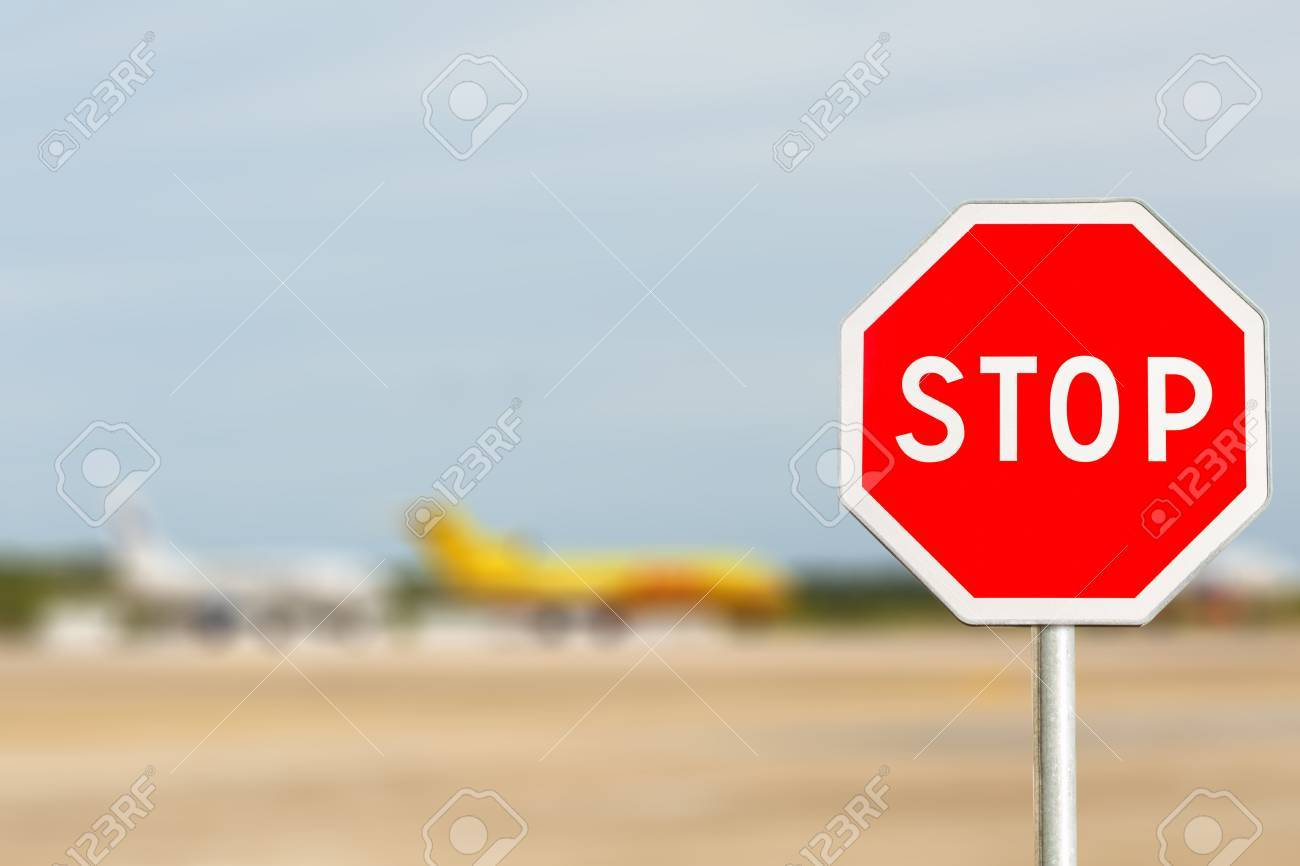stopsign: (841, 194, 1270, 627)
